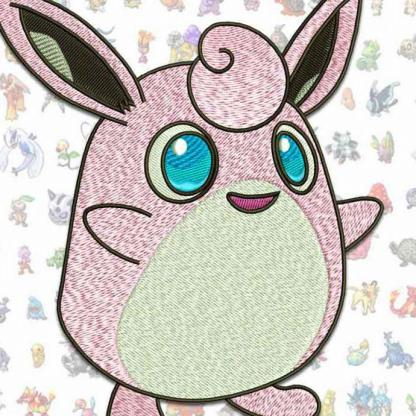Wigglytuff: (1, 1, 399, 416)
